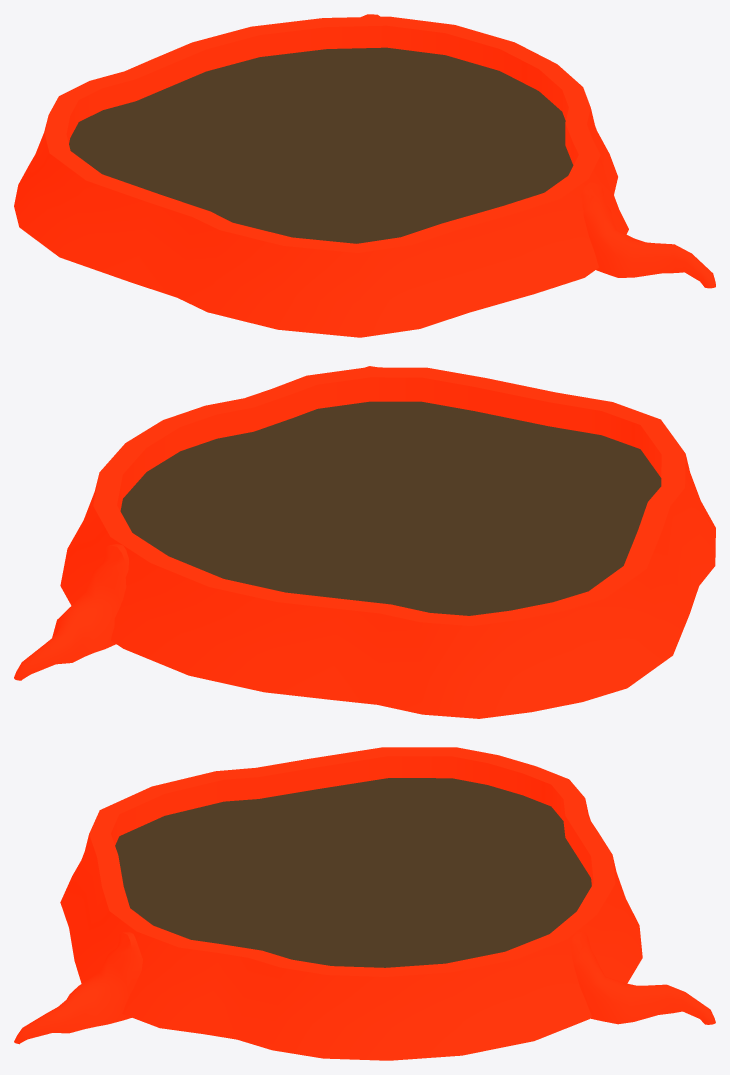
File: Stump.fbx
3 renders of one model, top to bottom at view 1: azimuth 30°, elevation 25°; view 2: azimuth 150°, elevation 25°; view 3: azimuth 270°, elevation 25°, orthographic. The views are drawn at different scales.
Parts seen in each view (by area): view 1: BezierCircle; view 2: BezierCircle; view 3: BezierCircle.
Boxes of the visible parts, left/top/right/bottom form: BezierCircle: left=14, top=14, right=715, bottom=337; BezierCircle: left=14, top=366, right=715, bottom=718; BezierCircle: left=14, top=747, right=715, bottom=1060.
Size of the model in its own units: 813 by 948 by 119.
